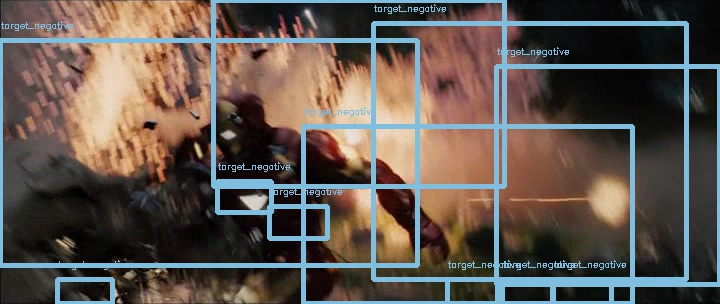person: (215, 93, 261, 161), (214, 93, 260, 161), (216, 93, 262, 161), (215, 92, 261, 160), (215, 94, 261, 162)
target_negative: (239, 182, 459, 297), (98, 140, 279, 226), (119, 30, 201, 52), (377, 194, 649, 198), (633, 235, 650, 238)
